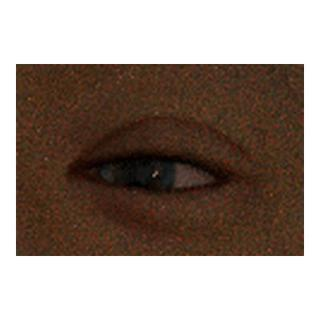pupil: (118, 156, 153, 191)
